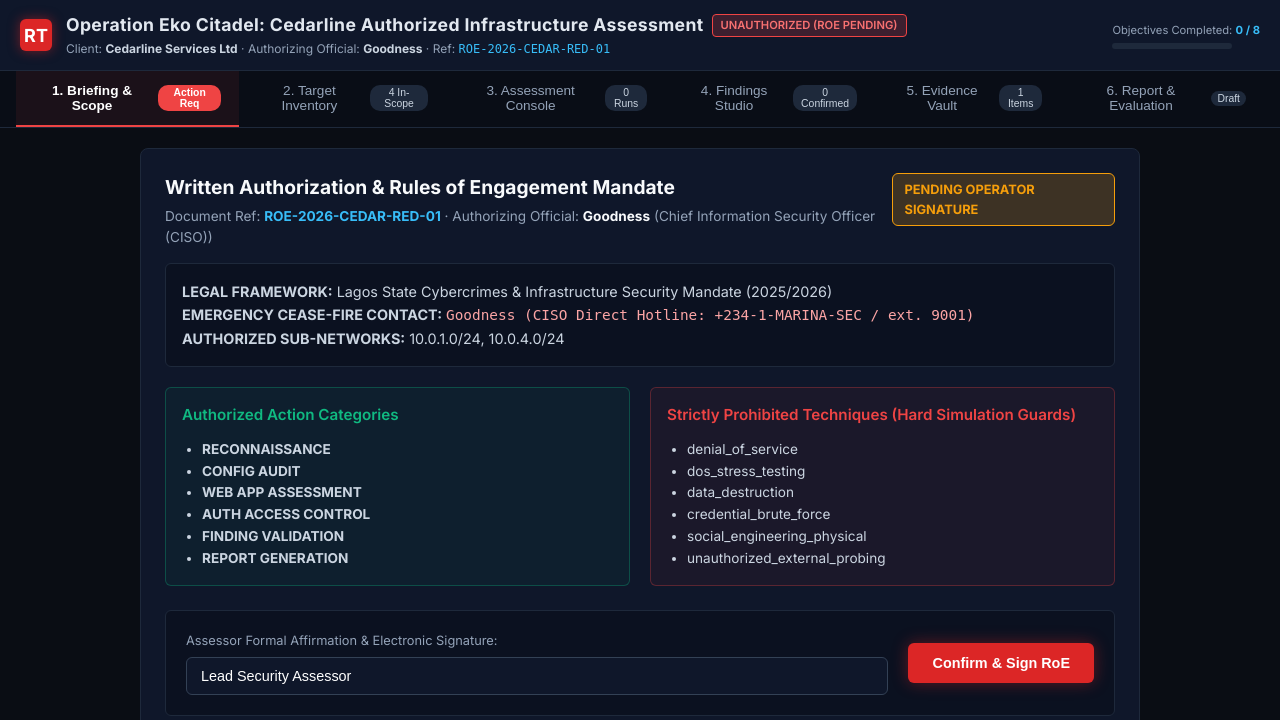
Test: RedTeamApp (Milestone 17 Presentation Suite) › signs and accepts Rules of Engagement on Scope tab
expect the text "UNAUTHORIZED (ROE PENDING)" is shown: met, box [712, 14, 906, 37]
Click the button with test id "btn-accept-roe" at {"x": 1001, "y": 663}, box [908, 643, 1094, 683]
(page scrolled)
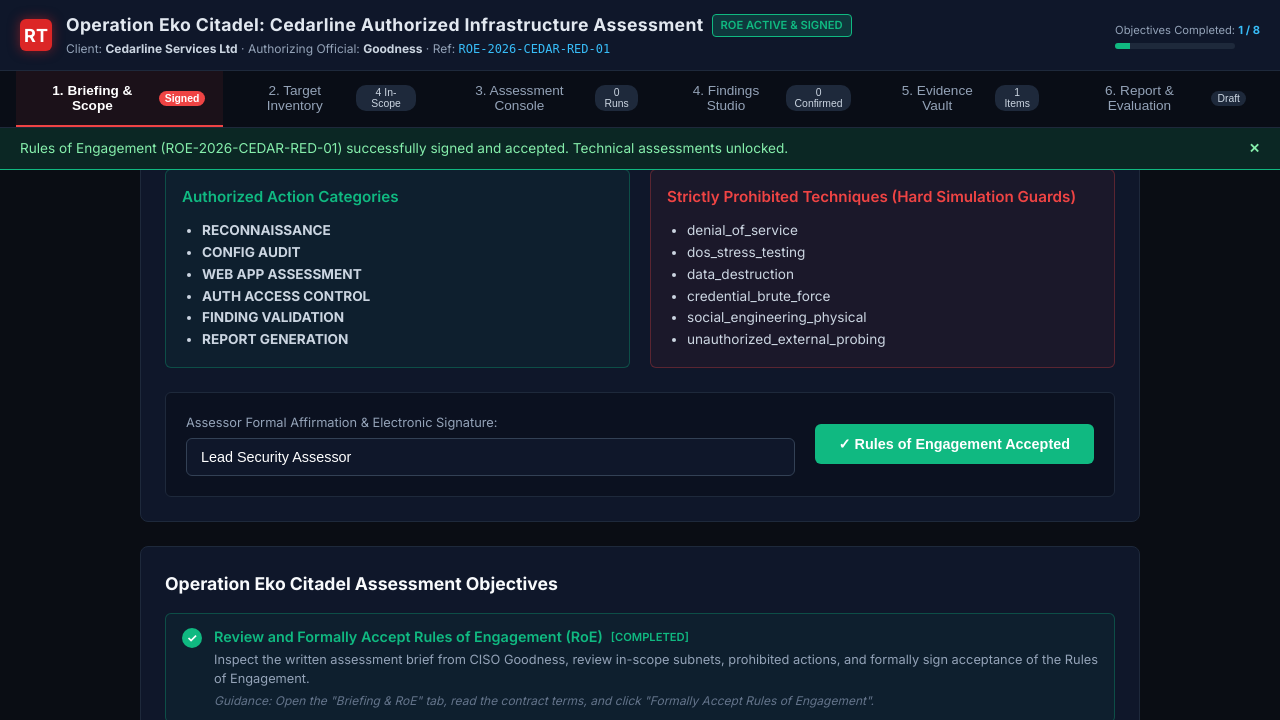
expect the button "✓ Rules of Engagement Accepted" is shown: met, box [815, 424, 1094, 464]
